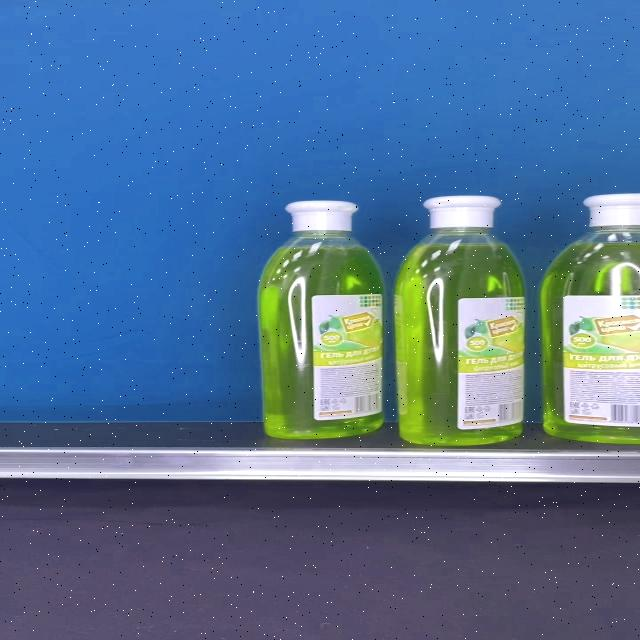Bottle: (394, 195, 526, 446), (259, 200, 384, 441)
Cap: (422, 196, 500, 229), (286, 200, 360, 232)
